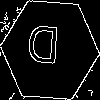D: (25, 25, 61, 73)
